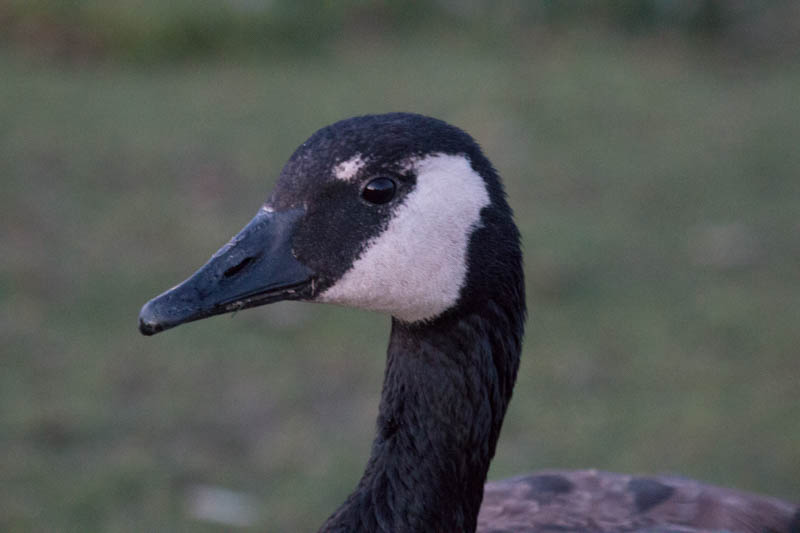goose-head: (138, 111, 528, 339)
